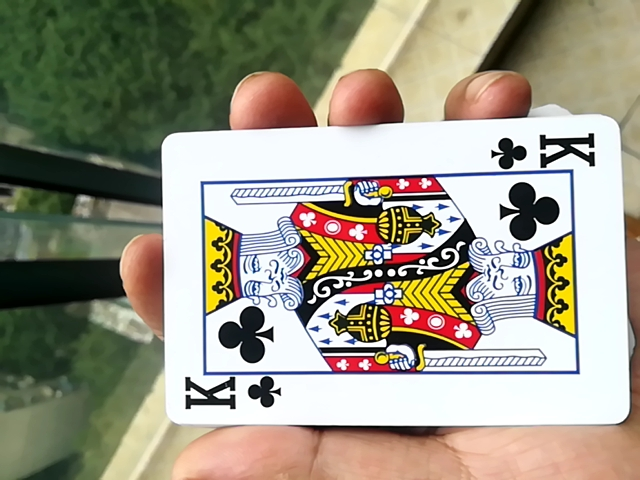mh k: (133, 120, 627, 443)
